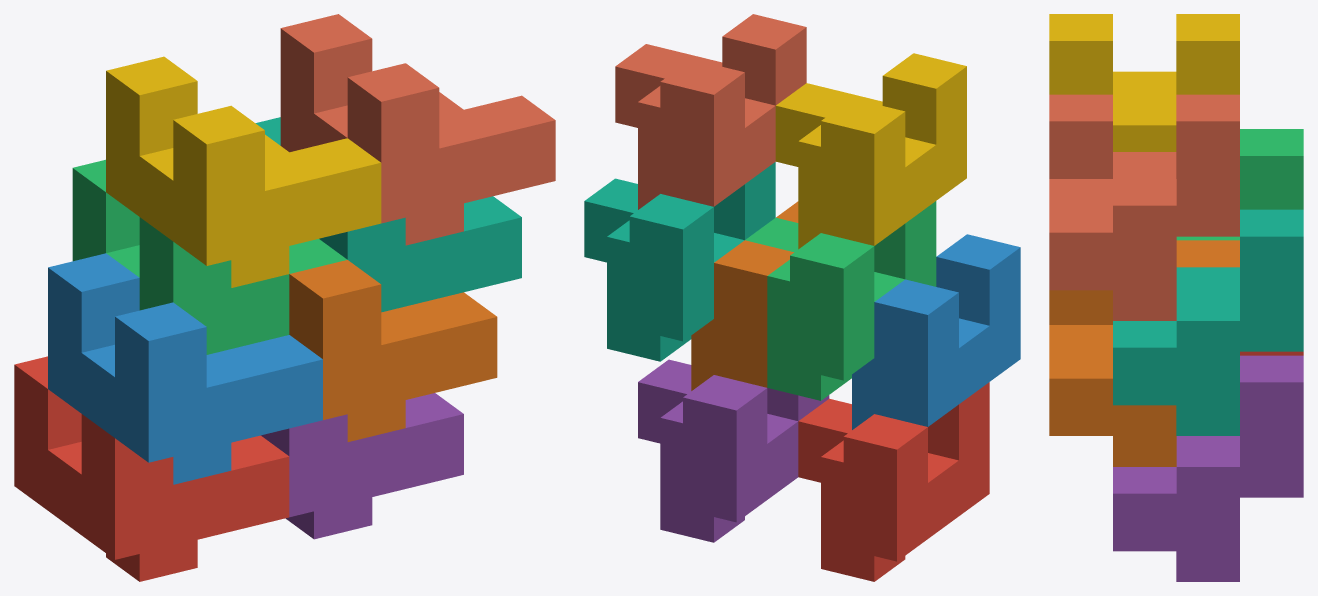
Rendered from tiling.obj.
3 renders of one model, left to right at view 1: azimuth 30°, elevation 25°; view 2: azimuth 150°, elevation 25°; view 3: azimuth 270°, elevation 25°, orthographic. The views are drawn at different scales.
Visible parts, largest first — view 1: copy_1_domain_4, copy_1_domain_2, copy_1_domain_8, copy_1_domain_1, copy_1_domain_6, copy_1_domain_3, copy_1_domain_5, copy_1_domain_7; view 2: copy_1_domain_4, copy_1_domain_8, copy_1_domain_1, copy_1_domain_2, copy_1_domain_7, copy_1_domain_5, copy_1_domain_3, copy_1_domain_6; view 3: copy_1_domain_8, copy_1_domain_7, copy_1_domain_5, copy_1_domain_4, copy_1_domain_6, copy_1_domain_3.
Boxes of the visible parts, x1,y1,x2,y2 form: copy_1_domain_4: [106, 56, 381, 287]; copy_1_domain_2: [48, 253, 322, 484]; copy_1_domain_8: [280, 14, 555, 245]; copy_1_domain_1: [14, 356, 289, 581]; copy_1_domain_6: [289, 260, 497, 441]; copy_1_domain_3: [72, 159, 347, 354]; copy_1_domain_5: [261, 393, 463, 539]; copy_1_domain_7: [255, 117, 521, 312]; copy_1_domain_4: [775, 53, 966, 249]; copy_1_domain_8: [615, 14, 806, 209]; copy_1_domain_1: [798, 382, 989, 581]; copy_1_domain_2: [852, 234, 1020, 429]; copy_1_domain_7: [584, 162, 775, 361]; copy_1_domain_5: [638, 359, 829, 542]; copy_1_domain_3: [745, 201, 936, 400]; copy_1_domain_6: [691, 201, 798, 390]; copy_1_domain_8: [1049, 94, 1239, 320]; copy_1_domain_7: [1113, 209, 1303, 435]; copy_1_domain_5: [1113, 355, 1303, 581]; copy_1_domain_4: [1049, 14, 1239, 151]; copy_1_domain_6: [1049, 240, 1239, 466]; copy_1_domain_3: [1176, 129, 1303, 240].
Bounding box in the file's own units: 7 × 8 × 4.
